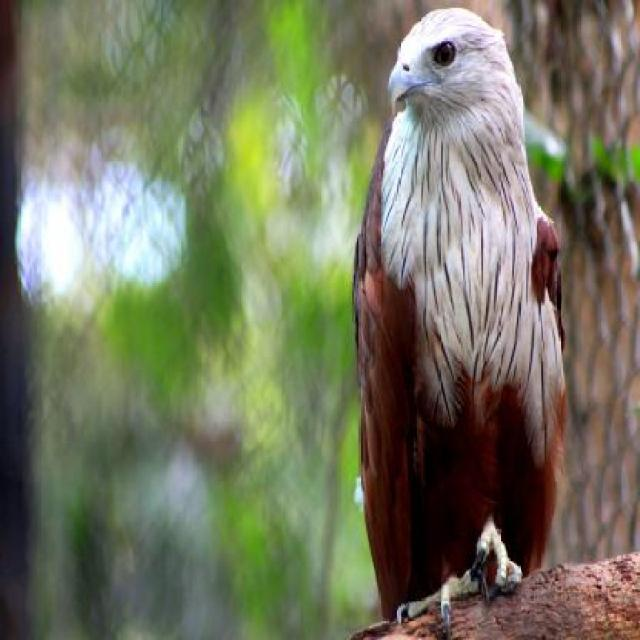Eagle: (347, 7, 557, 640)
